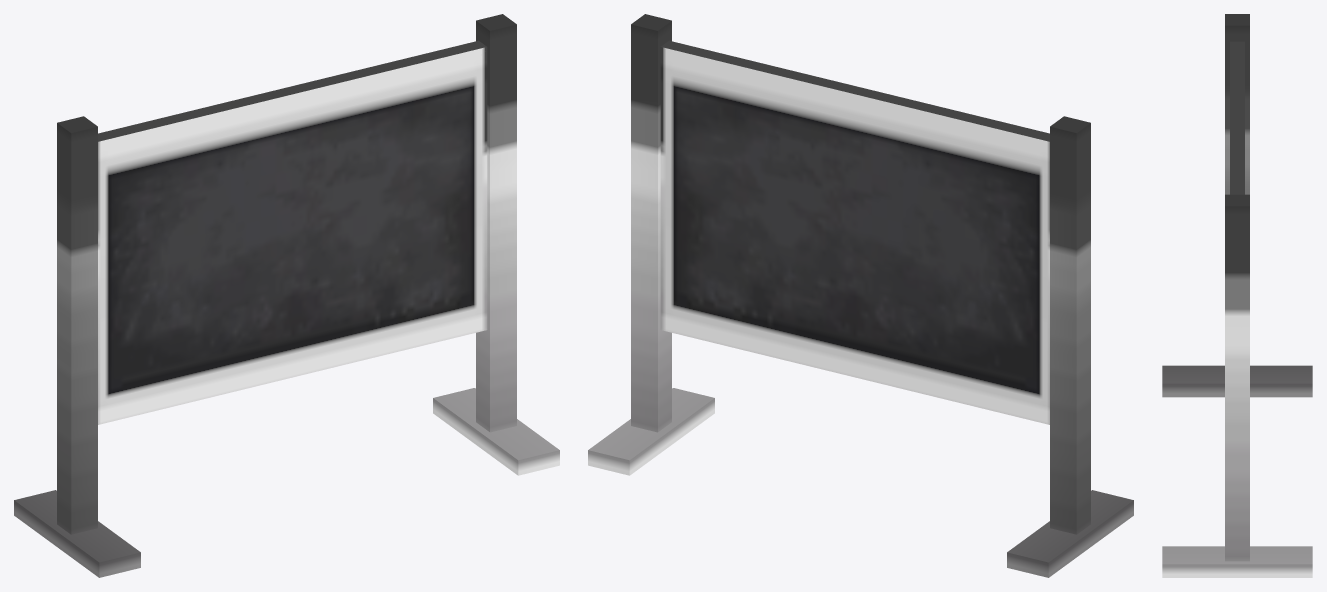
The model's file is Building_Blackboard.glb.
3 views of the same model, side by side, from view 1: azimuth 30°, elevation 25°; view 2: azimuth 150°, elevation 25°; view 3: azimuth 270°, elevation 25° (orthographic). The views are drawn at different scales.
Visible parts, largest first — view 1: Blackboard; view 2: Blackboard; view 3: Blackboard.
Part boxes in pixels (x1=…): Blackboard: x1=14, y1=14, x2=559, y2=577; Blackboard: x1=588, y1=14, x2=1133, y2=577; Blackboard: x1=1162, y1=14, x2=1312, y2=577.
Bounding box in the file's own units: 1.87 × 1.62 × 0.6.
Materials: 1 (1 with a texture image).
